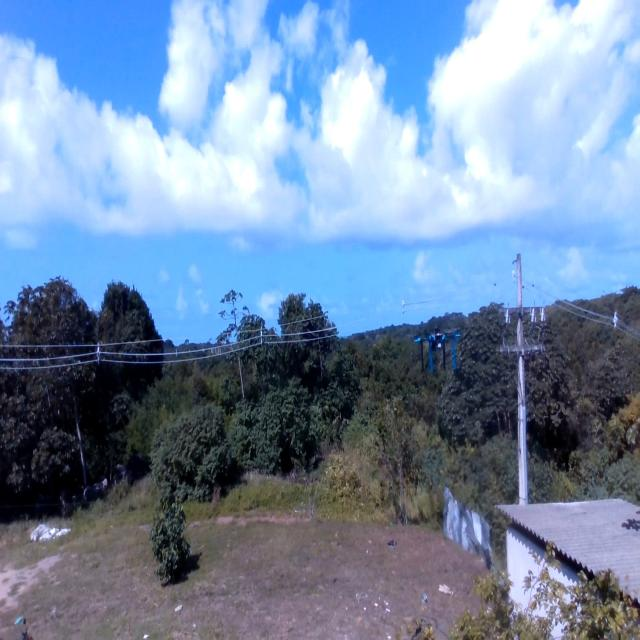-uav-: (409, 317, 467, 387)
